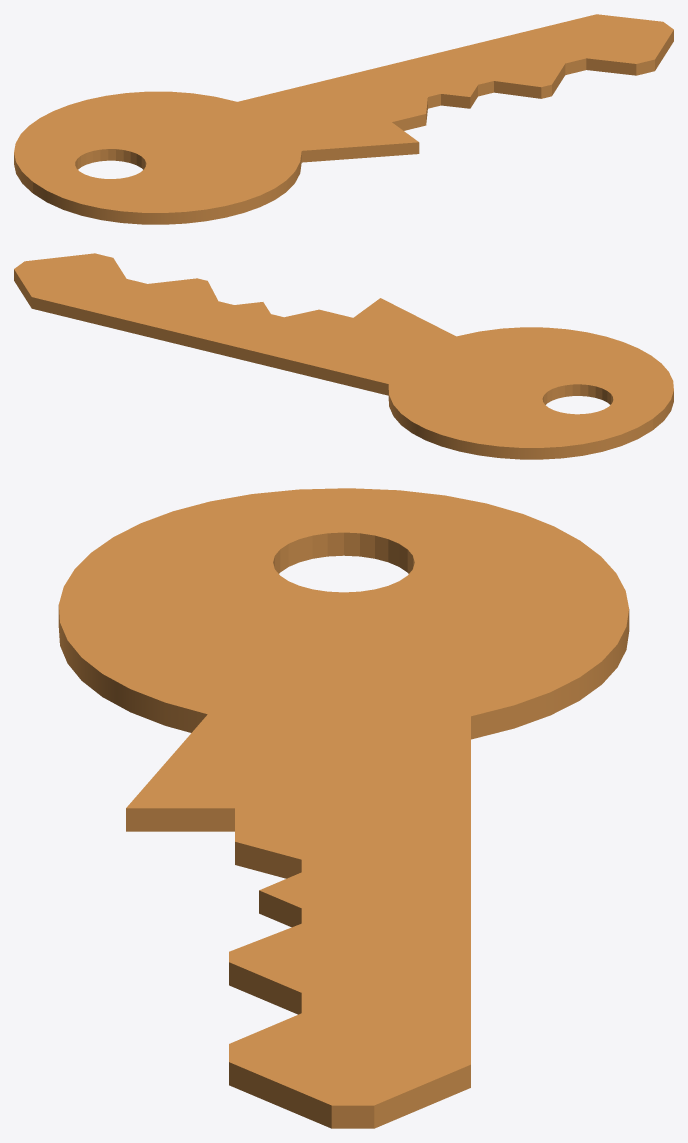
The model's file is Key.FBX.
3 views of the same model, one above another, from view 1: azimuth 30°, elevation 25°; view 2: azimuth 150°, elevation 25°; view 3: azimuth 270°, elevation 25° (orthographic). The views are drawn at different scales.
Parts seen in each view (by area): view 1: Color002.0; view 2: Color002.0; view 3: Color002.0.
Boxes of the visible parts, x1=… form: Color002.0: x1=14, y1=14, x2=673, y2=224; Color002.0: x1=14, y1=253, x2=673, y2=459; Color002.0: x1=58, y1=488, x2=629, y2=1128.
Size of the model in its own units: 14472 by 254 by 5651.
